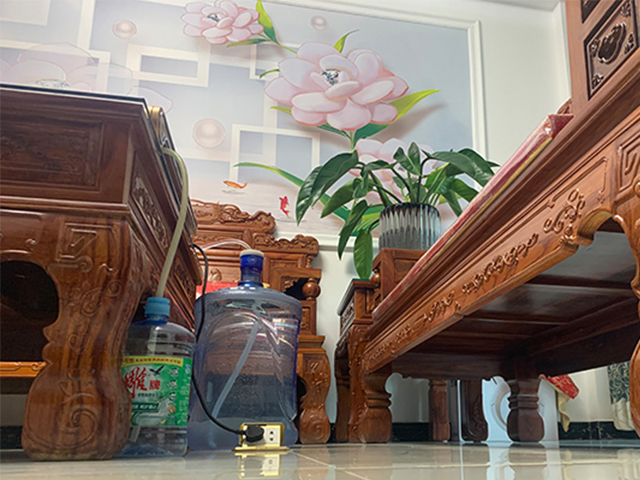sofa: (333, 1, 640, 443)
table: (1, 82, 203, 463)
wire: (192, 242, 265, 442)
